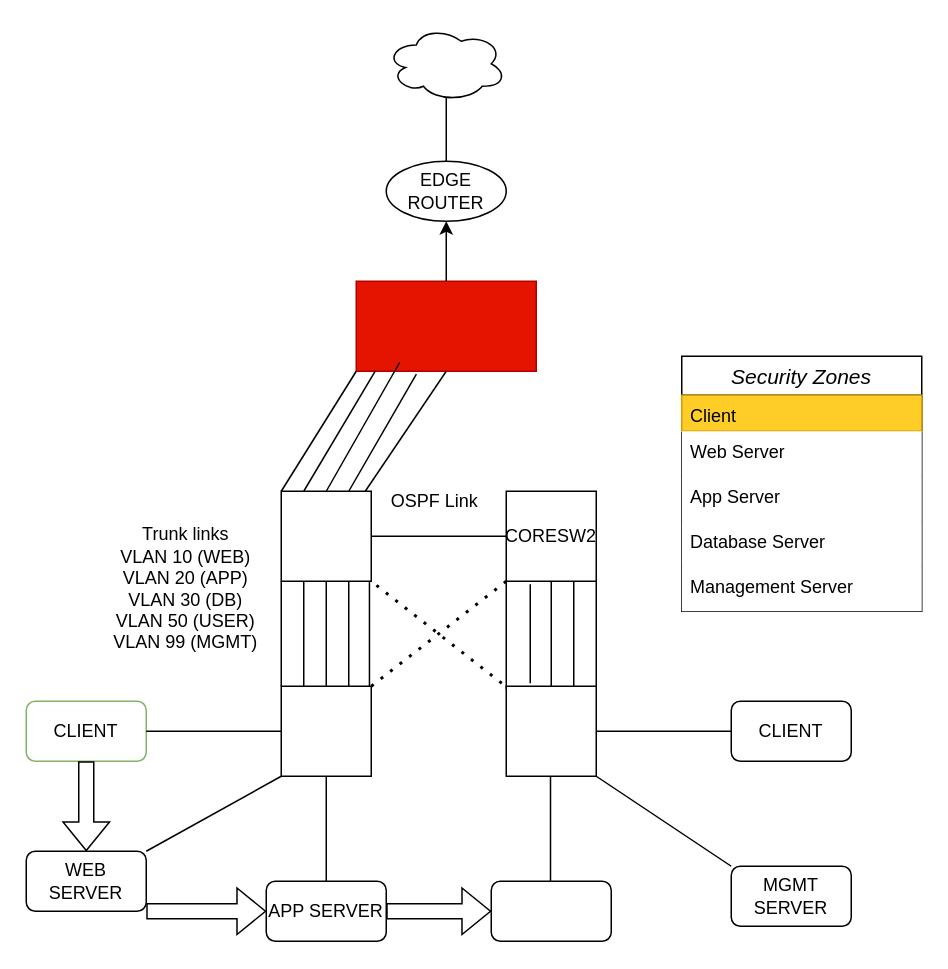
Some shapes in this 948 by 969 pixel diagram are drawn without their labels. Each missing label, with the centre of its shape:
"CoreSW1" goes at (x=325, y=535).
"DATEBASE SERVER" goes at (x=550, y=910).
"FIREWALL-MAIN" goes at (x=445, y=325).
"INTERNET" goes at (x=445, y=63).
"SWITCH1" goes at (x=325, y=730).
"SWITCH2" goes at (x=550, y=730).
